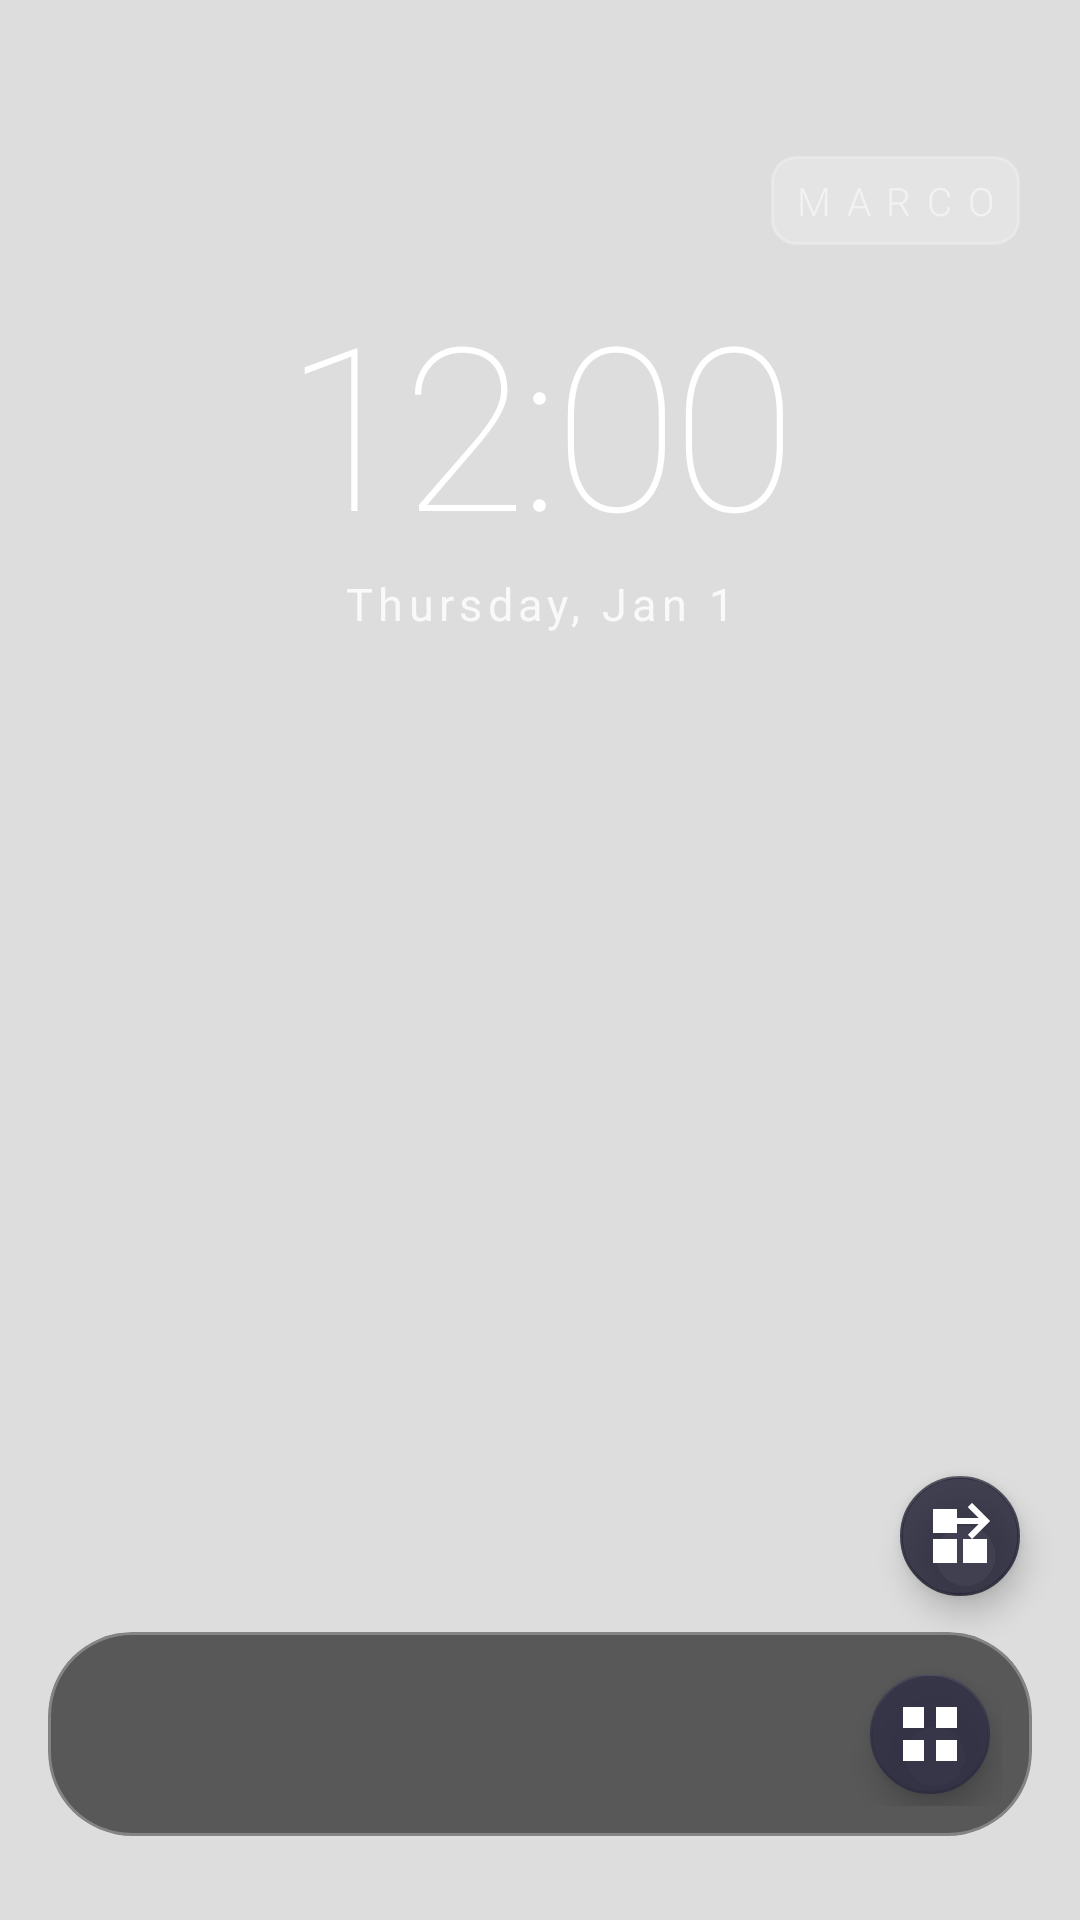

Icon click points for this 1080*1920 phone screenshot, format (x=x, y=y):
Add Widget: (x=960, y=1541)
Open App Drawer: (x=930, y=1735)
